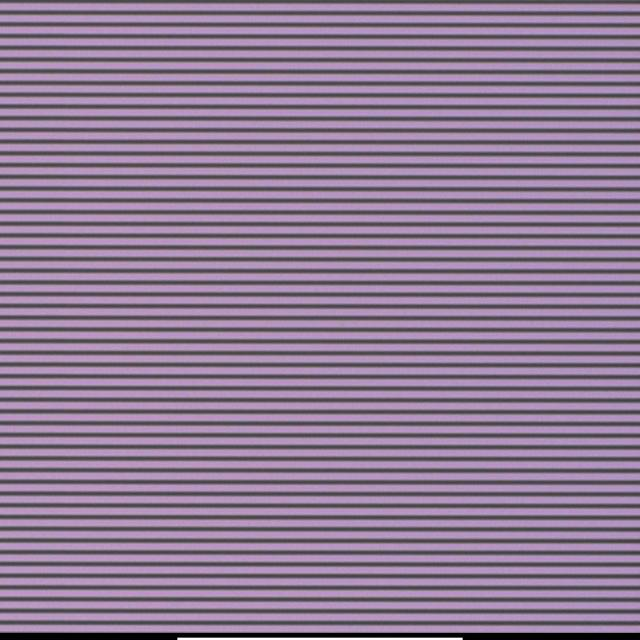nonvisual: (340, 322, 344, 328)
